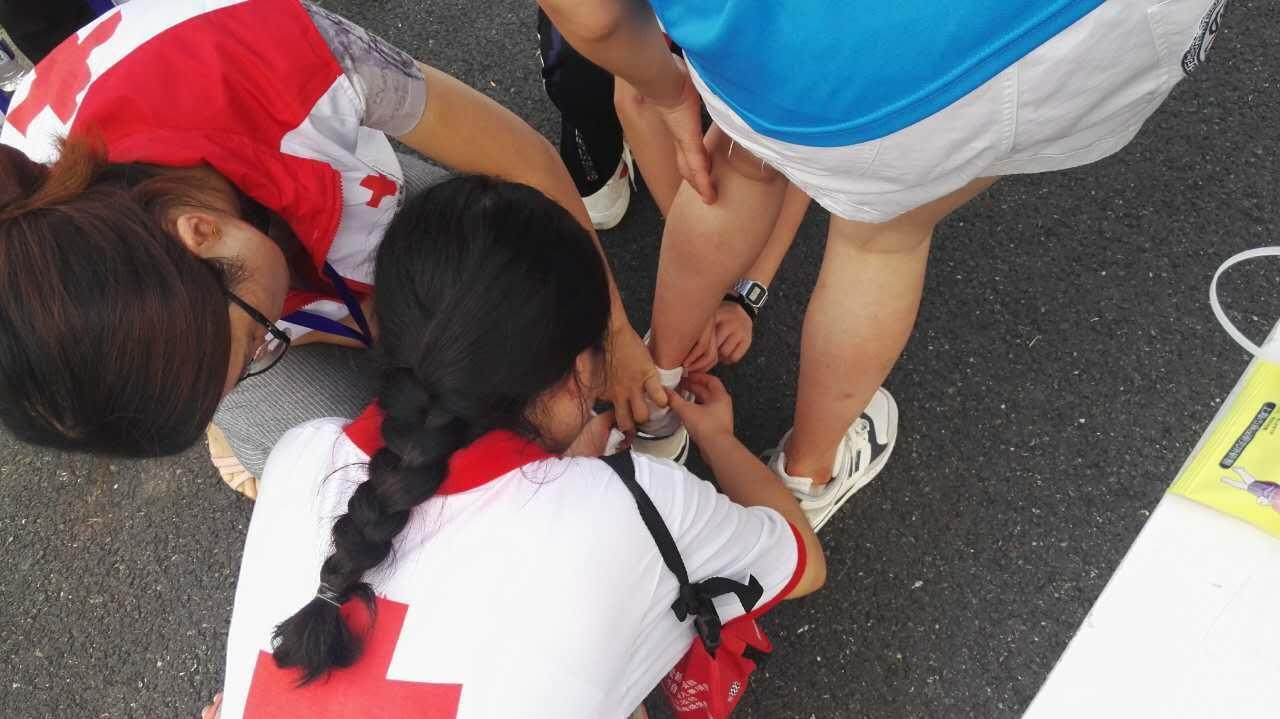Fall-Detected: (9, 2, 601, 493)
